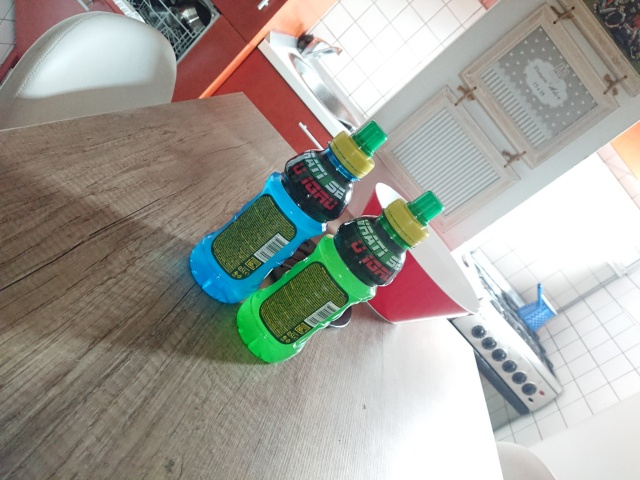Vindi Iso Sport Forest Strawberries 500mL: (187, 116, 391, 307)
Vindi Iso Sport Lemon-Grapefruit 500mL: (234, 187, 447, 367)
